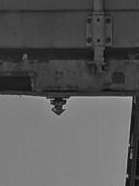twist_lock_2: (43, 93, 73, 120)
